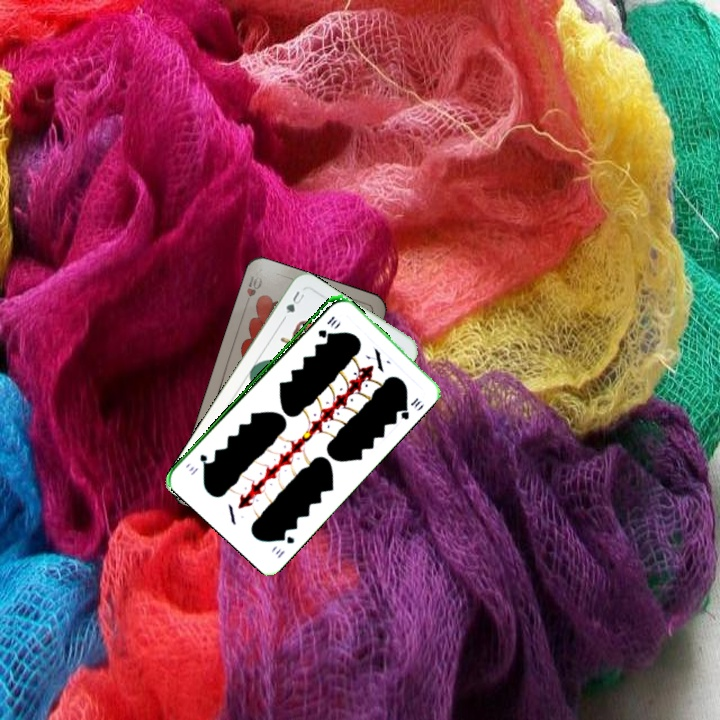G10: (271, 530, 297, 561), (314, 312, 337, 340)
GU: (282, 287, 307, 316)
H10: (241, 271, 265, 310)
